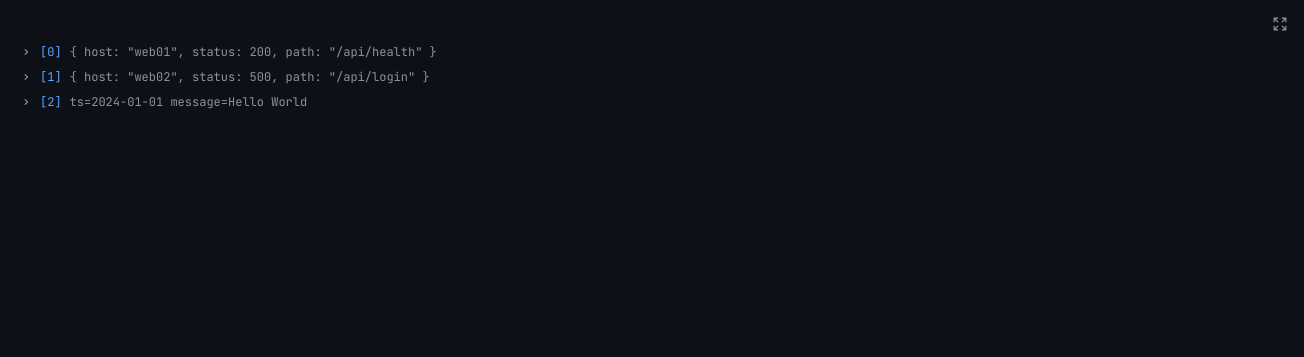
Test case: JsonBrowser › collapse all button collapses every event
# Expand all first
What coordinates should you click on to do the following:
click the button titled "Expand all"
I would click on:
 (1280, 24)
Its box is [1268,12,1292,36].
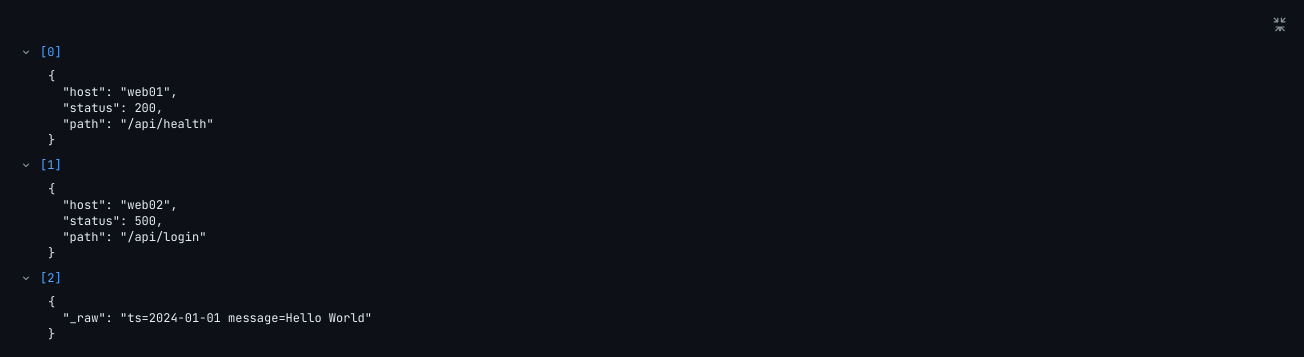
expect the text "{ \"host\": \"web01\", \"status\": 200, \"path\": \"/api/health\" }" is shown: met, box [48,68,214,148]
# Now collapse all
What coordinates should you click on to do the following:
click the button titled "Collapse all"
I would click on:
 (1280, 24)
Its box is [1268,12,1292,36].
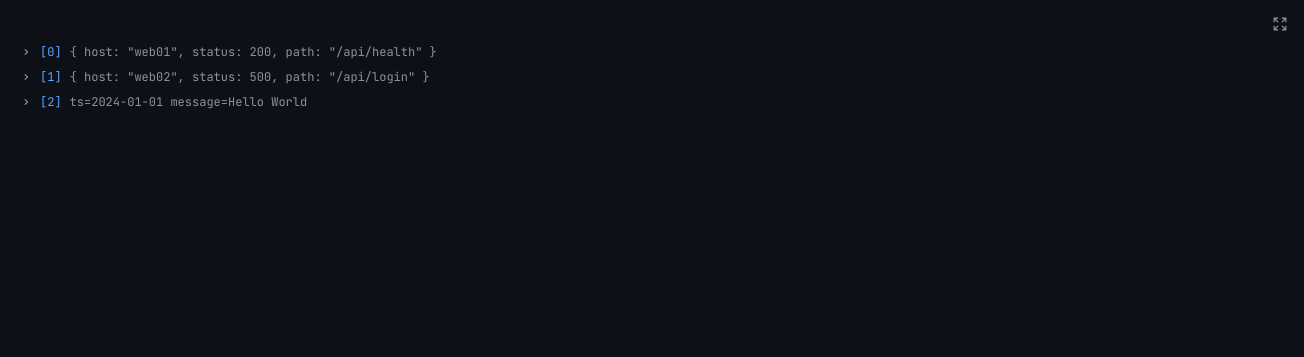
expect the text "\"path\": \"/api/health\"" is gone: met
expect the text "\"path\": \"/api/login\"" is gone: met
